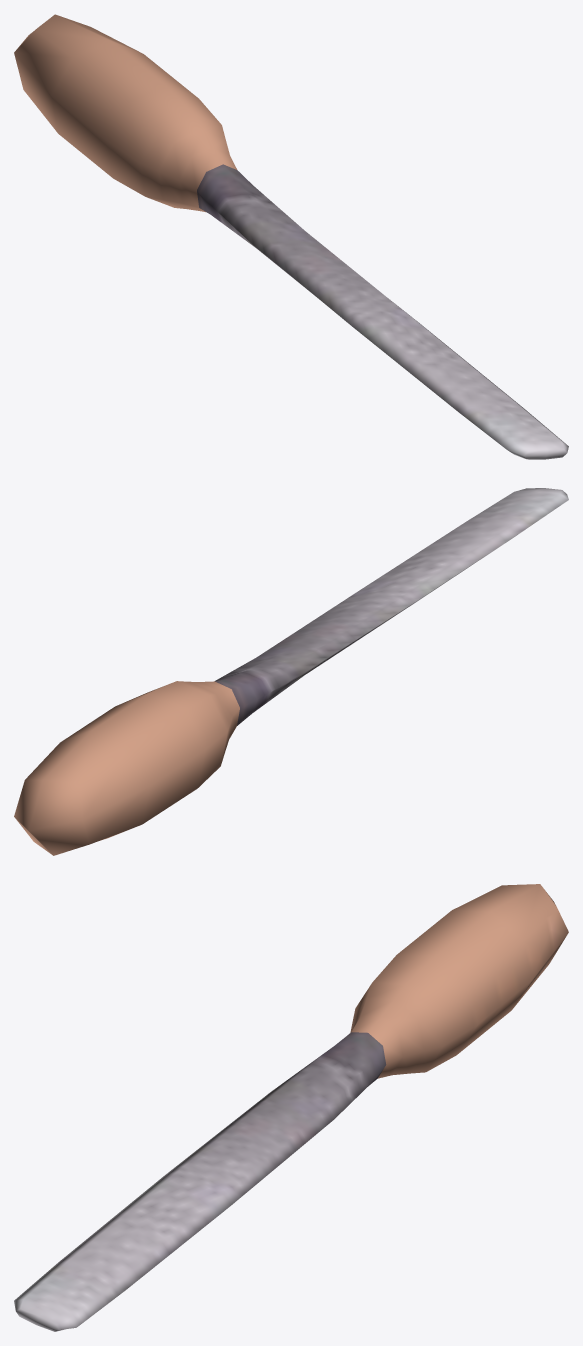
Rendered from WorldItem_HCFile.fbx.
3 views of the same model, one above another, from view 1: azimuth 30°, elevation 25°; view 2: azimuth 150°, elevation 25°; view 3: azimuth 330°, elevation 25° (orthographic).
Parts seen in each view (by area): view 1: FIle; view 2: FIle; view 3: FIle.
Boxes of the visible parts, <box> form: FIle: <box>14,14,568,459</box>; FIle: <box>14,488,568,855</box>; FIle: <box>14,884,568,1331</box>.
Size of the model in its own units: 0.0164 by 0.0171 by 0.1503.
